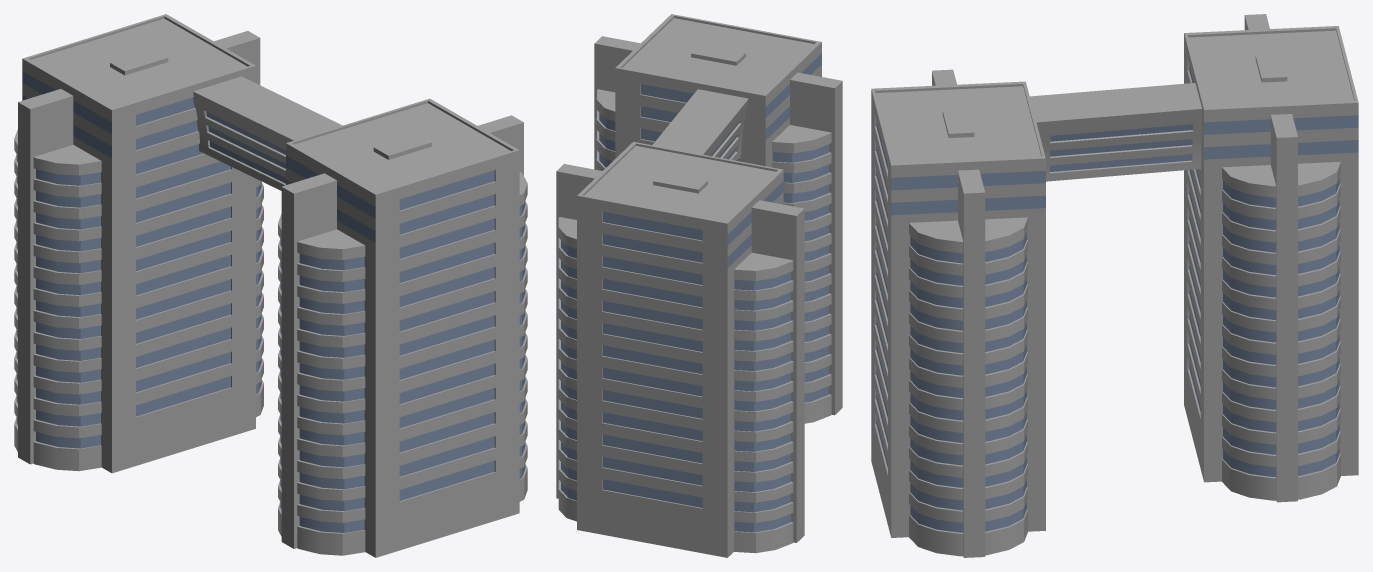
Rendered from SpecialBuilding21.fbx.
3 views of the same model, side by side, from view 1: azimuth 30°, elevation 25°; view 2: azimuth 150°, elevation 25°; view 3: azimuth 270°, elevation 25° (orthographic). The views are drawn at different scales.
Parts seen in each view (by area): view 1: SpecialBuilding23; view 2: SpecialBuilding23; view 3: SpecialBuilding23.
Boxes of the visible parts, left/top/right/bottom form: SpecialBuilding23: left=14, top=14, right=527, bottom=557; SpecialBuilding23: left=556, top=14, right=842, bottom=557; SpecialBuilding23: left=871, top=14, right=1358, bottom=557.
Bounding box in the file's own units: 24.69 × 24 × 28.32.
